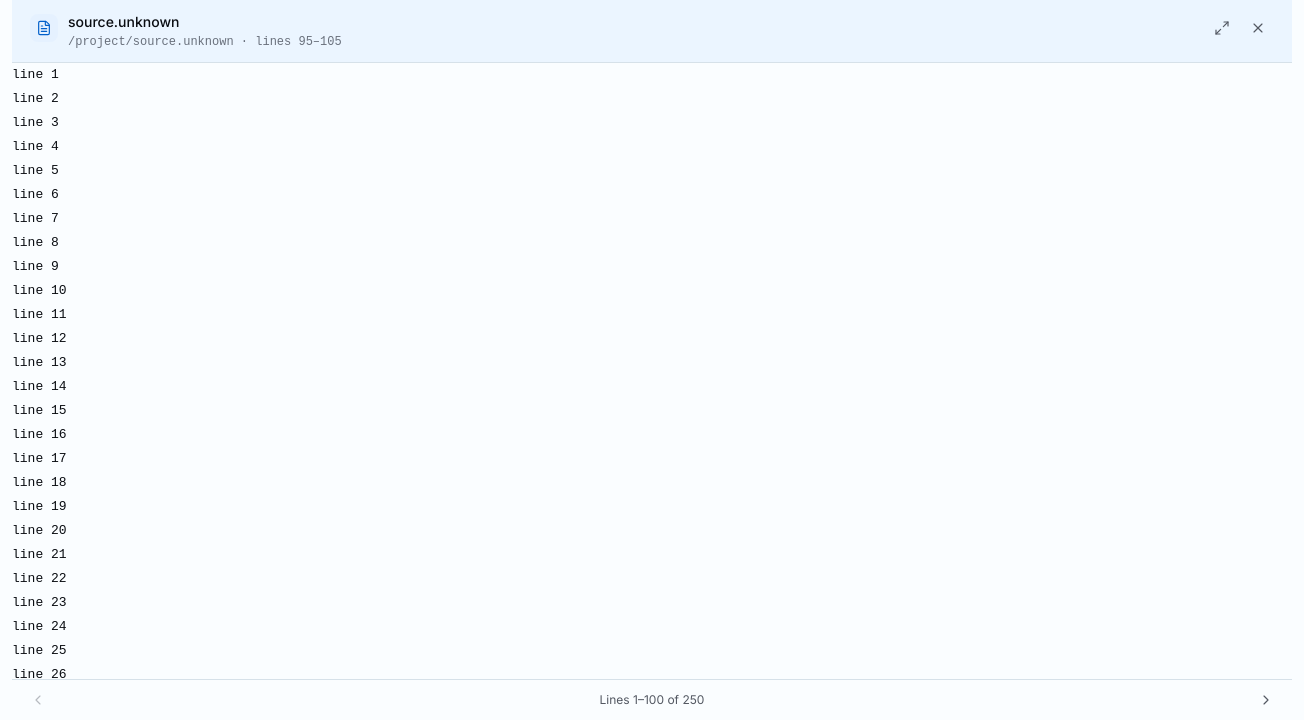
Project File Panel › paginates a large file after Monaco fails and preserves a cross-page linked range
Expected: the navigation bar named "File pages" reads "Lines 1–100 of 250", [12, 679, 1292, 719]
Click the button named "Next 100 lines". click: (1266, 700)
box: [1252, 686, 1280, 714]
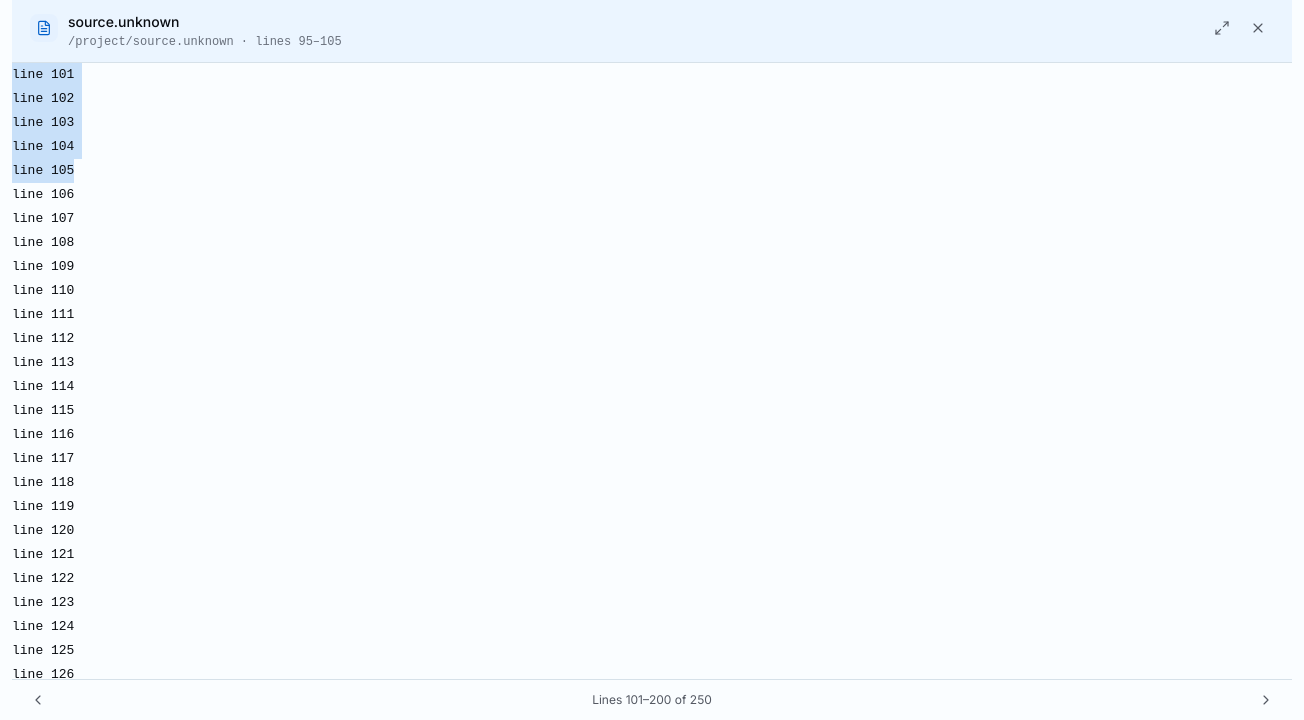
Now the navigation bar named "File pages" reads "Lines 101–200 of 250", box [12, 679, 1292, 719]
Click the button named "Next 100 lines". click: (1266, 700)
box: [1252, 686, 1280, 714]
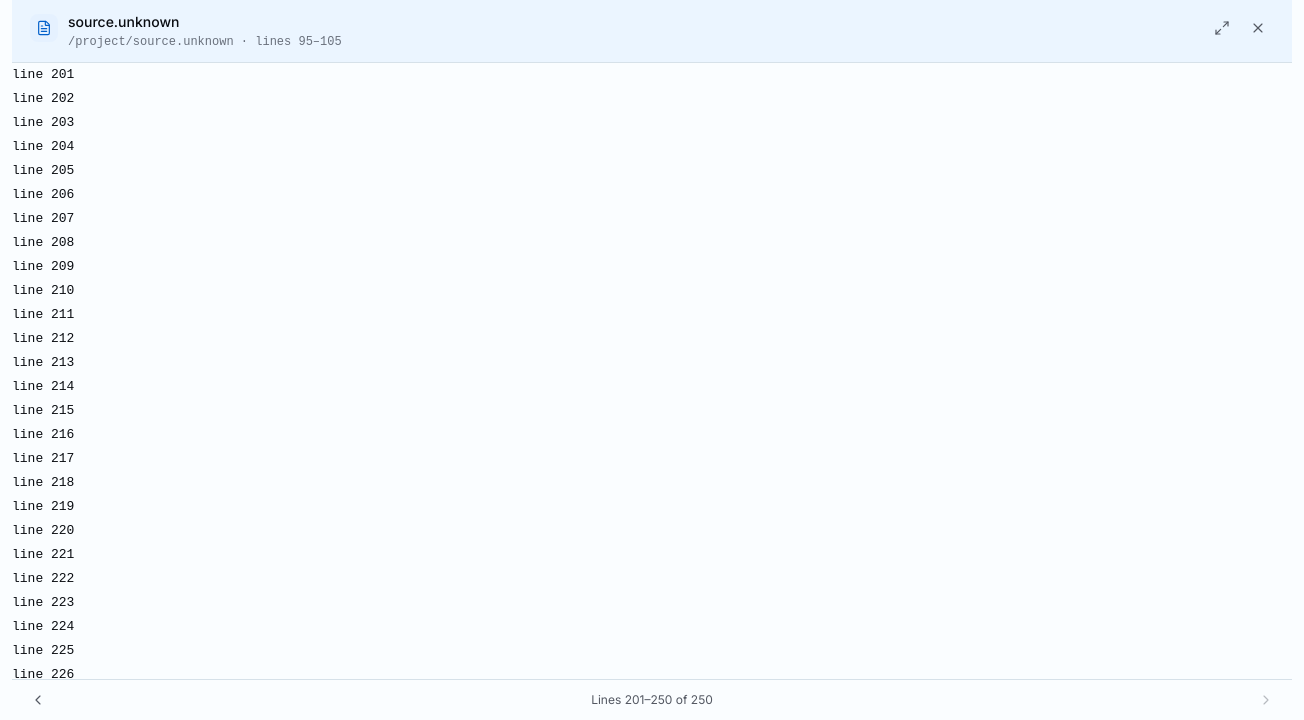
Now the navigation bar named "File pages" reads "Lines 201–250 of 250", box [12, 679, 1292, 719]
